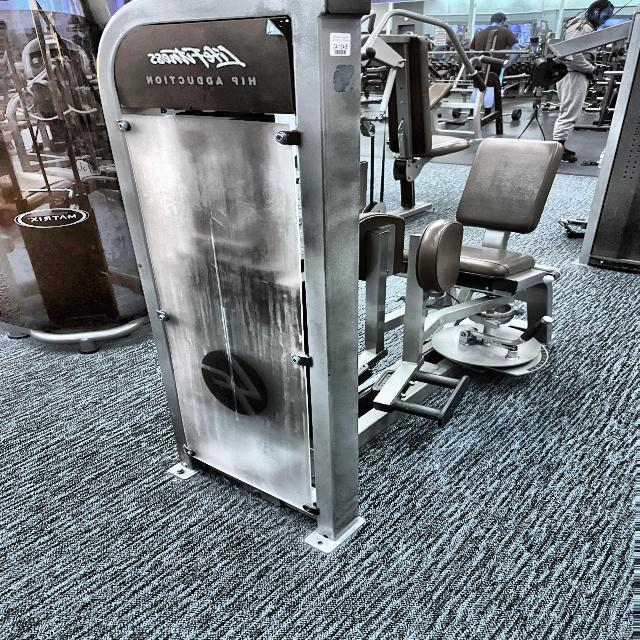hip_adduction_machine: (376, 75, 602, 454), (138, 65, 264, 110)
